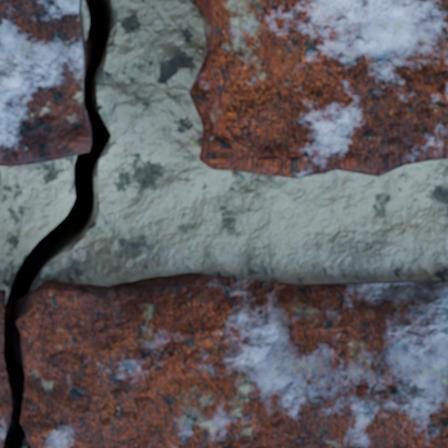brick: (190, 0, 447, 177), (0, 0, 90, 165)
broken_brick: (20, 272, 447, 447), (0, 289, 10, 447)
crack: (1, 0, 114, 447)
